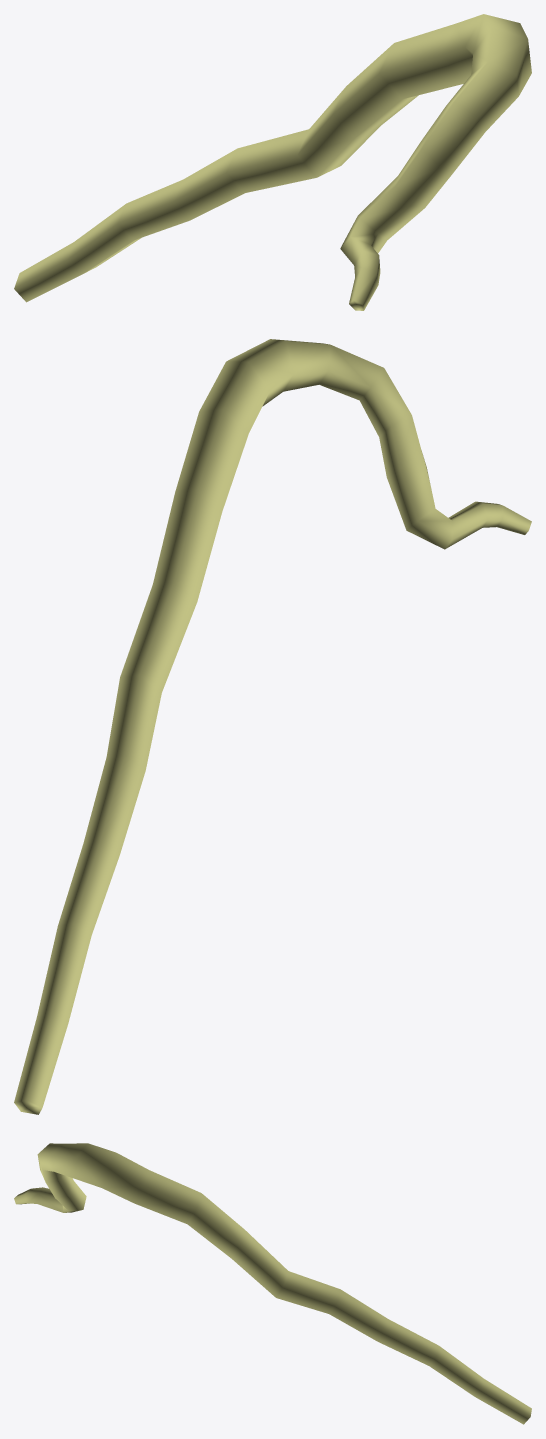
Rendered from DruidaPalo_SB1.fbx.
3 renders of one model, top to bottom at view 1: azimuth 30°, elevation 25°; view 2: azimuth 150°, elevation 25°; view 3: azimuth 270°, elevation 25°, orthographic. The views are drawn at different scales.
Visible parts, largest first — view 1: DruidaPalo_SB1; view 2: DruidaPalo_SB1; view 3: DruidaPalo_SB1.
Part boxes in pixels (box(x1,y1,x2,y2)): DruidaPalo_SB1: box(14, 14, 531, 310); DruidaPalo_SB1: box(14, 339, 531, 1114); DruidaPalo_SB1: box(14, 1143, 531, 1424).
Bounding box in the file's own units: 22.68 × 45.88 × 69.91.
